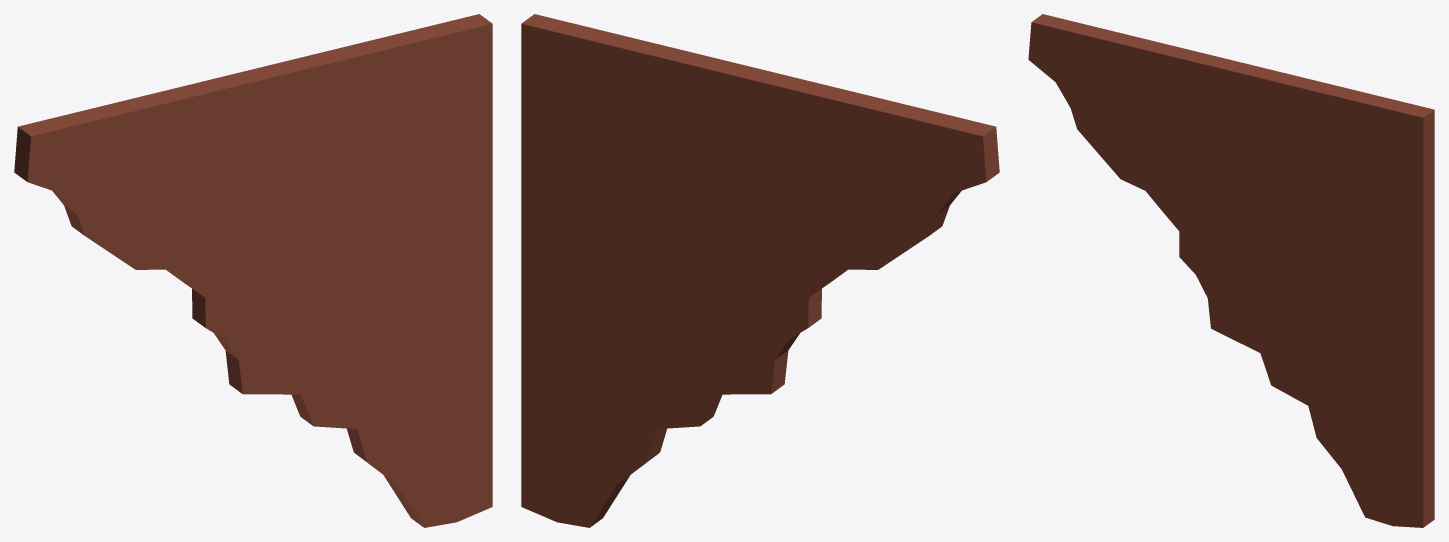
File: Tile12.glb
3 views of the same model, side by side, from view 1: azimuth 30°, elevation 25°; view 2: azimuth 150°, elevation 25°; view 3: azimuth 330°, elevation 25° (orthographic). The views are drawn at different scales.
Visible parts, largest first — view 1: 12; view 2: 12; view 3: 12.
Part boxes in pixels (x1,y1,x2,y2): 12: (14,14,492,527); 12: (521,14,999,527); 12: (1028,14,1434,527).
Size of the model in its own units: 2.02 by 2.03 by 0.1.
1 material, 1 textured.
